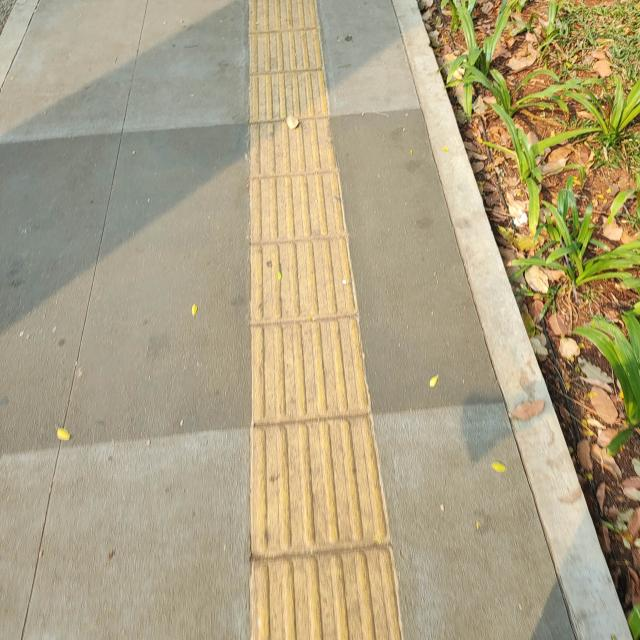lurus: (238, 0, 400, 640)
